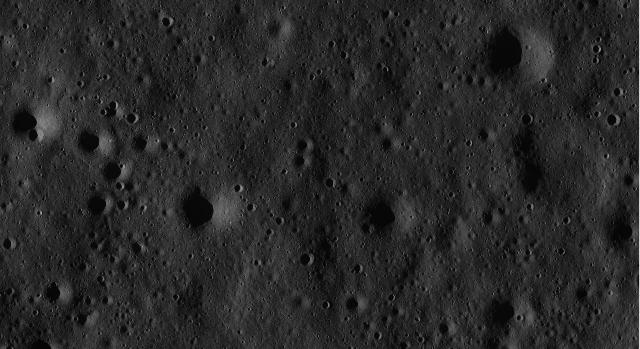crater: (477, 19, 559, 87), (178, 182, 238, 240), (362, 186, 416, 236), (4, 100, 62, 146), (482, 292, 526, 336), (610, 208, 638, 248), (96, 156, 130, 188), (76, 128, 106, 160), (42, 278, 74, 306), (23, 331, 65, 349), (570, 278, 596, 306), (86, 193, 110, 221), (128, 132, 154, 156), (70, 307, 96, 331), (342, 294, 368, 316), (286, 150, 310, 170), (620, 170, 640, 190), (435, 320, 455, 338), (476, 127, 494, 147), (1, 236, 22, 252), (158, 12, 175, 30), (293, 135, 311, 151), (604, 113, 622, 129), (348, 261, 364, 279), (77, 257, 93, 275), (373, 62, 393, 76), (300, 252, 316, 268), (27, 126, 41, 144), (390, 305, 408, 319), (478, 212, 496, 226), (520, 113, 536, 127), (126, 110, 142, 124), (104, 38, 120, 52), (130, 240, 146, 254), (86, 240, 102, 254), (375, 313, 391, 327), (308, 68, 322, 84), (115, 202, 133, 214), (100, 292, 116, 305), (434, 79, 450, 92), (192, 51, 204, 68), (322, 178, 336, 192), (105, 252, 119, 266), (260, 57, 274, 71), (381, 7, 393, 22), (611, 86, 625, 98), (96, 108, 110, 120), (274, 215, 288, 227), (372, 329, 386, 341), (562, 214, 574, 228), (437, 20, 449, 34), (554, 245, 568, 257), (402, 16, 414, 30), (322, 298, 332, 314), (97, 72, 113, 82), (5, 286, 18, 298), (170, 292, 182, 305), (461, 137, 474, 149), (114, 181, 128, 192), (338, 51, 352, 62), (464, 75, 476, 87), (516, 312, 528, 324), (524, 200, 536, 212), (590, 108, 602, 120), (593, 42, 603, 56), (110, 96, 120, 110), (234, 183, 246, 194), (386, 292, 399, 302), (396, 341, 412, 349), (327, 38, 337, 50), (207, 32, 217, 44), (20, 22, 32, 32), (253, 257, 265, 267), (588, 56, 602, 64), (604, 276, 612, 290), (246, 203, 256, 213), (166, 126, 178, 134), (12, 59, 21, 69), (76, 79, 84, 89), (47, 76, 57, 84), (266, 230, 276, 238), (97, 276, 105, 284)
